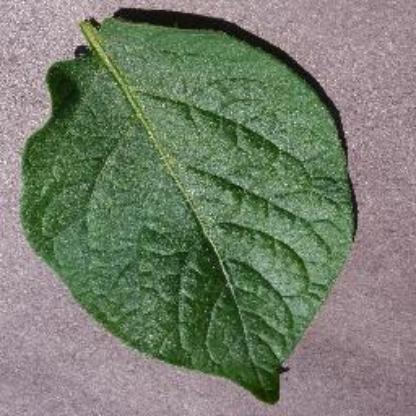Healthy-plant: (20, 10, 370, 404)
